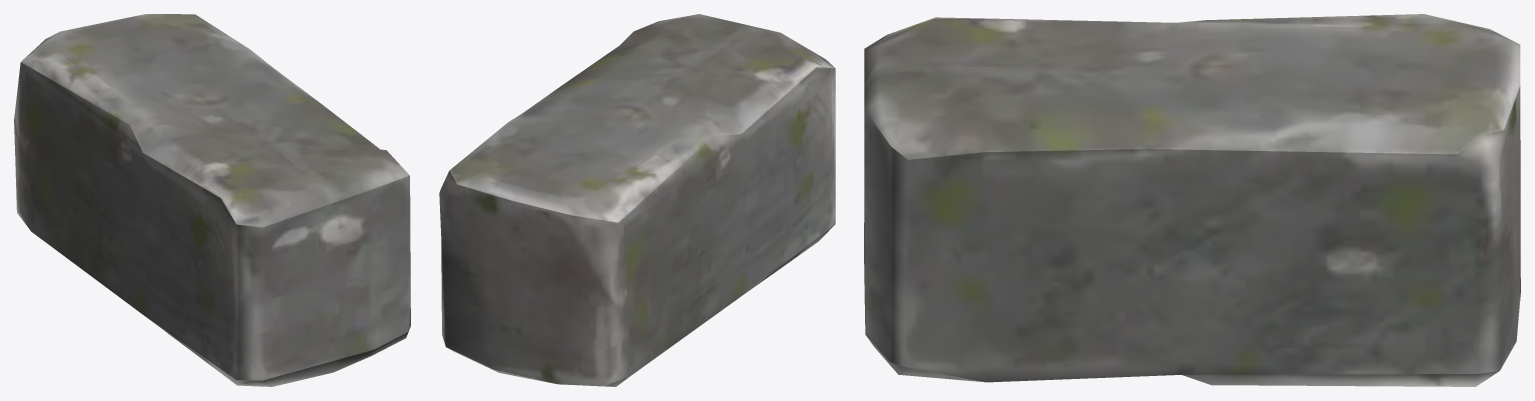
3 renders of one model, left to right at view 1: azimuth 30°, elevation 25°; view 2: azimuth 150°, elevation 25°; view 3: azimuth 270°, elevation 25°, orthographic. The views are drawn at different scales.
Visible parts, largest first — view 1: SM_River_Bridge_Unique_Bricks_06_LOD0; view 2: SM_River_Bridge_Unique_Bricks_06_LOD0; view 3: SM_River_Bridge_Unique_Bricks_06_LOD0.
Boxes of the visible parts, x1,y1,x2,y2 form: SM_River_Bridge_Unique_Bricks_06_LOD0: (14,14,410,386); SM_River_Bridge_Unique_Bricks_06_LOD0: (439,14,835,386); SM_River_Bridge_Unique_Bricks_06_LOD0: (864,14,1520,386).
Bounding box in the file's own units: 0.276 × 0.2754 × 0.6223.
1 material, 1 textured.
